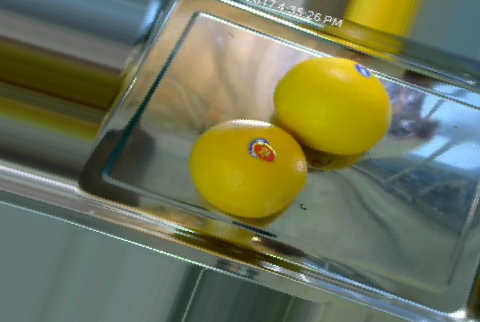Orange: (189, 119, 309, 220), (271, 56, 392, 155)
